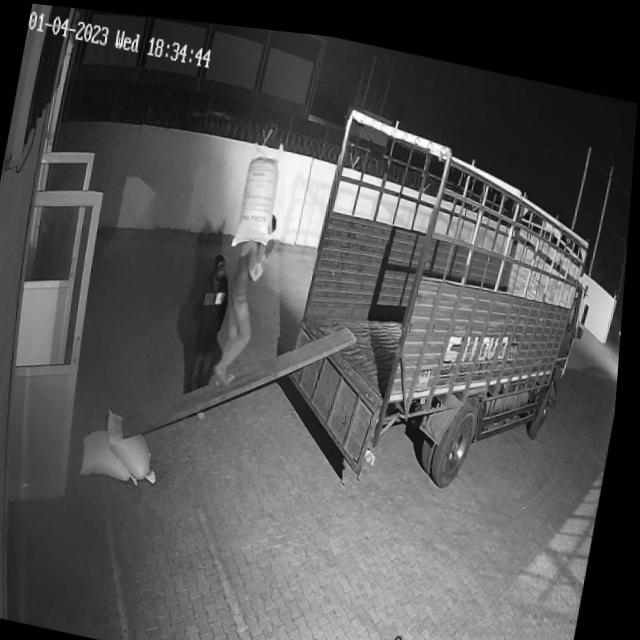sack: (233, 145, 286, 248), (103, 403, 172, 479), (83, 420, 154, 483)
